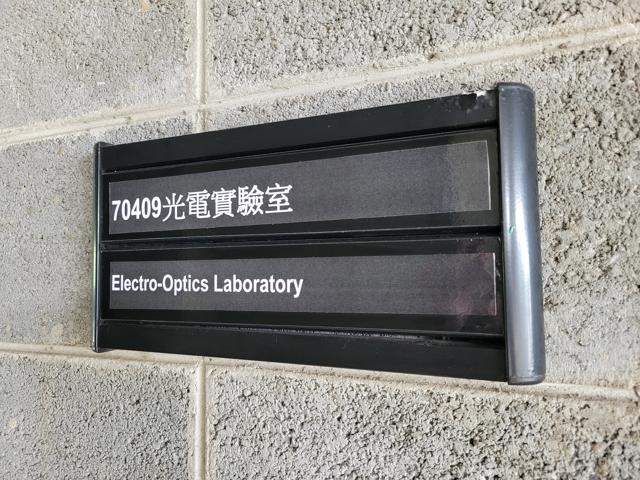doorplate: (82, 71, 555, 395)
